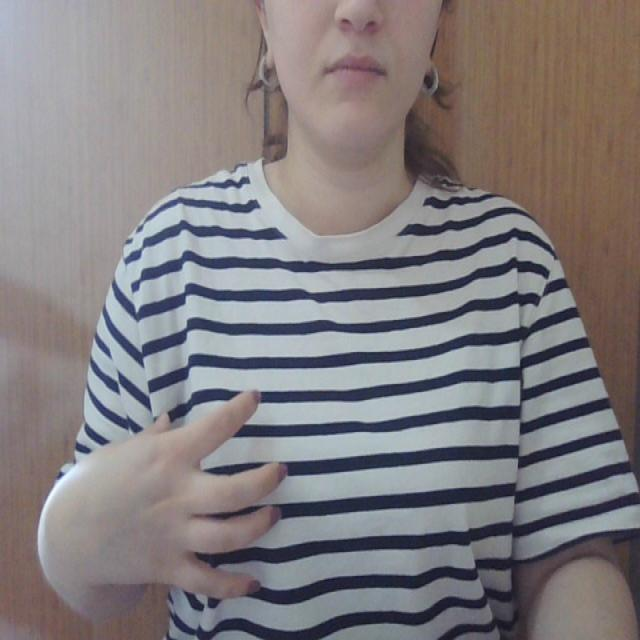Anne: (107, 378, 292, 619)
